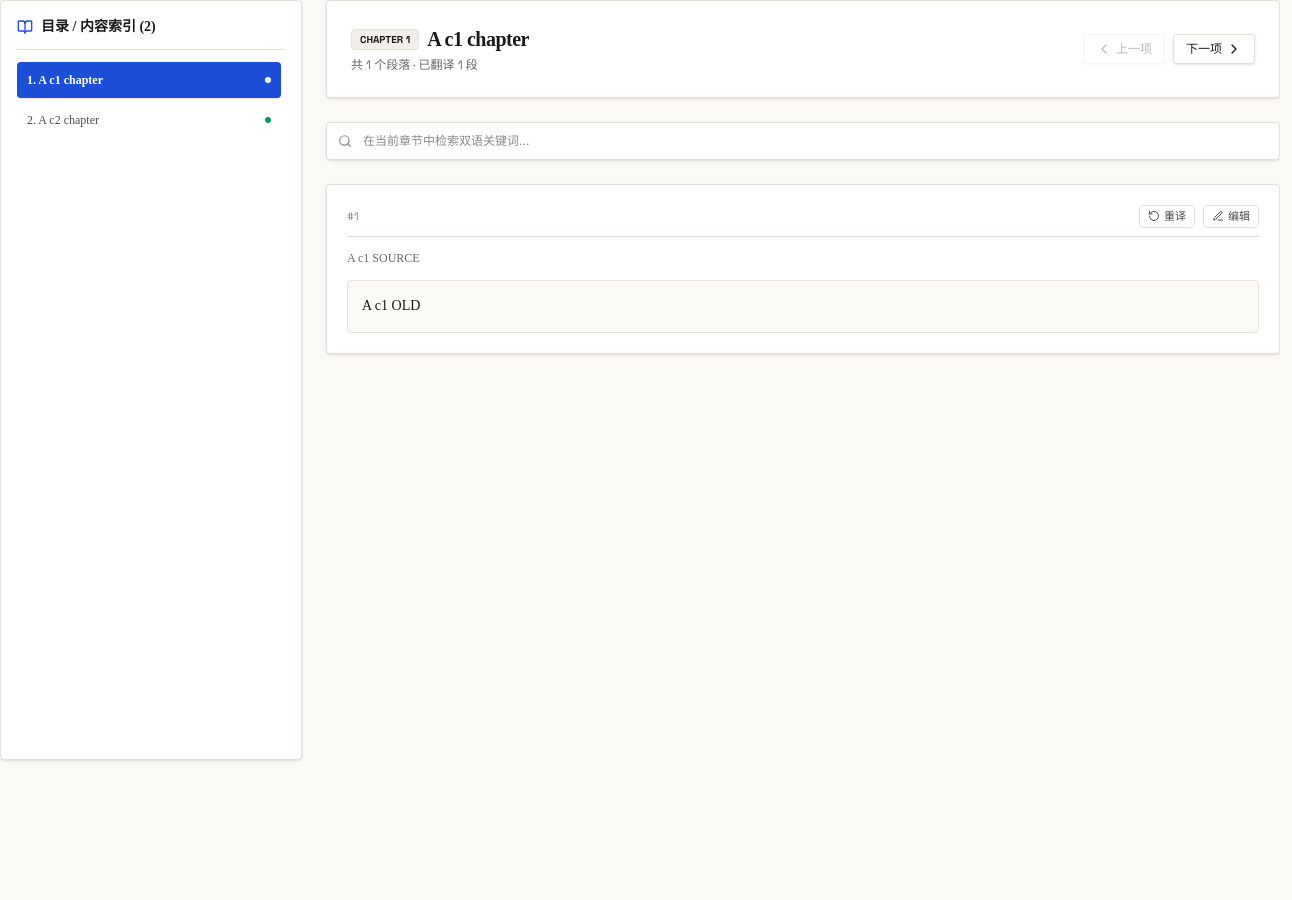
Scenario: late retranslate response › ignores chapter-switch stale success
expect the text "A c1 OLD" is shown: met, box [347,280,1259,333]
Click the button "重译" at (1167,216), box [1139,205,1195,228]
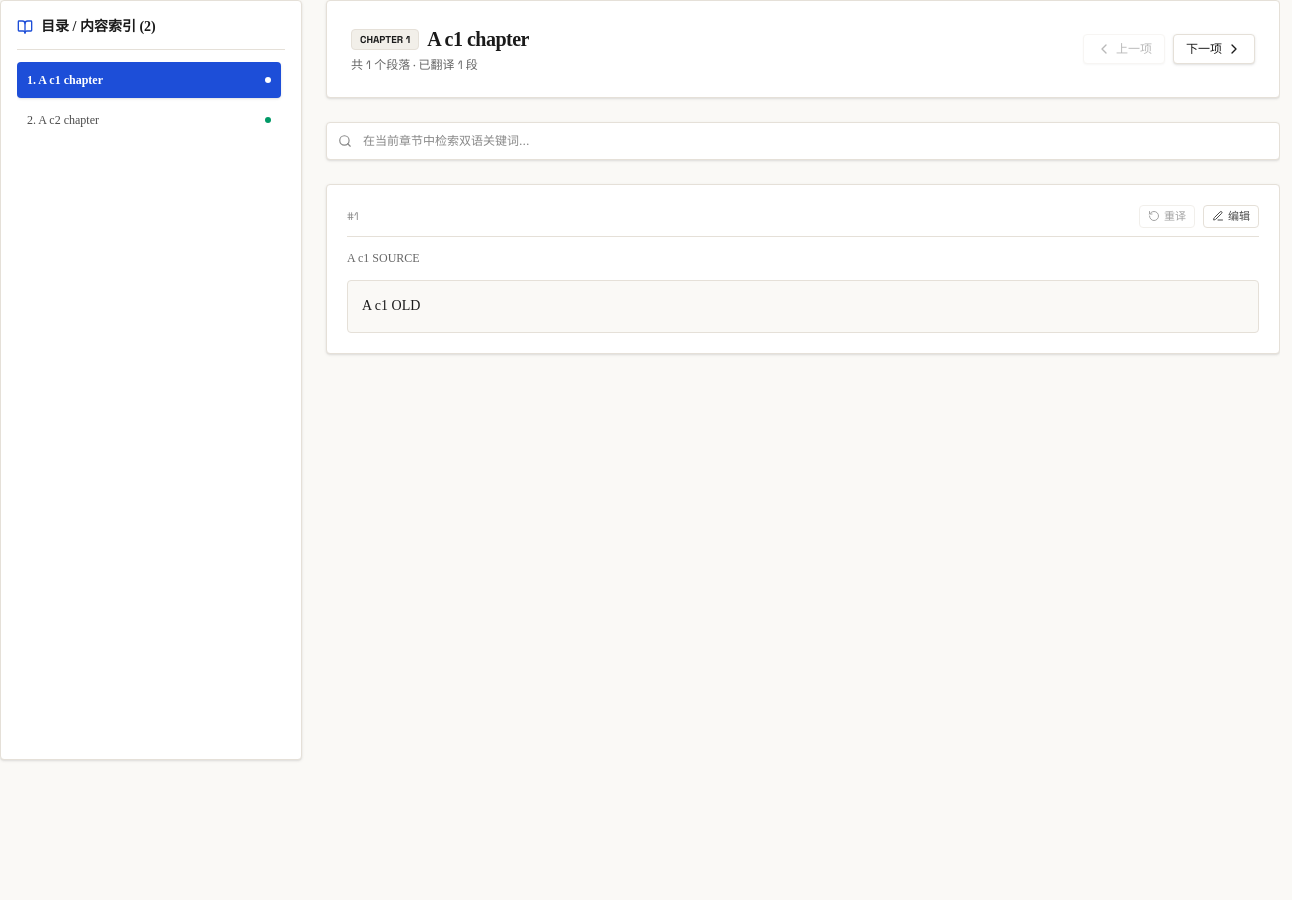
Click the button "2. A c2 chapter" at (69,120), box [17,102,281,138]
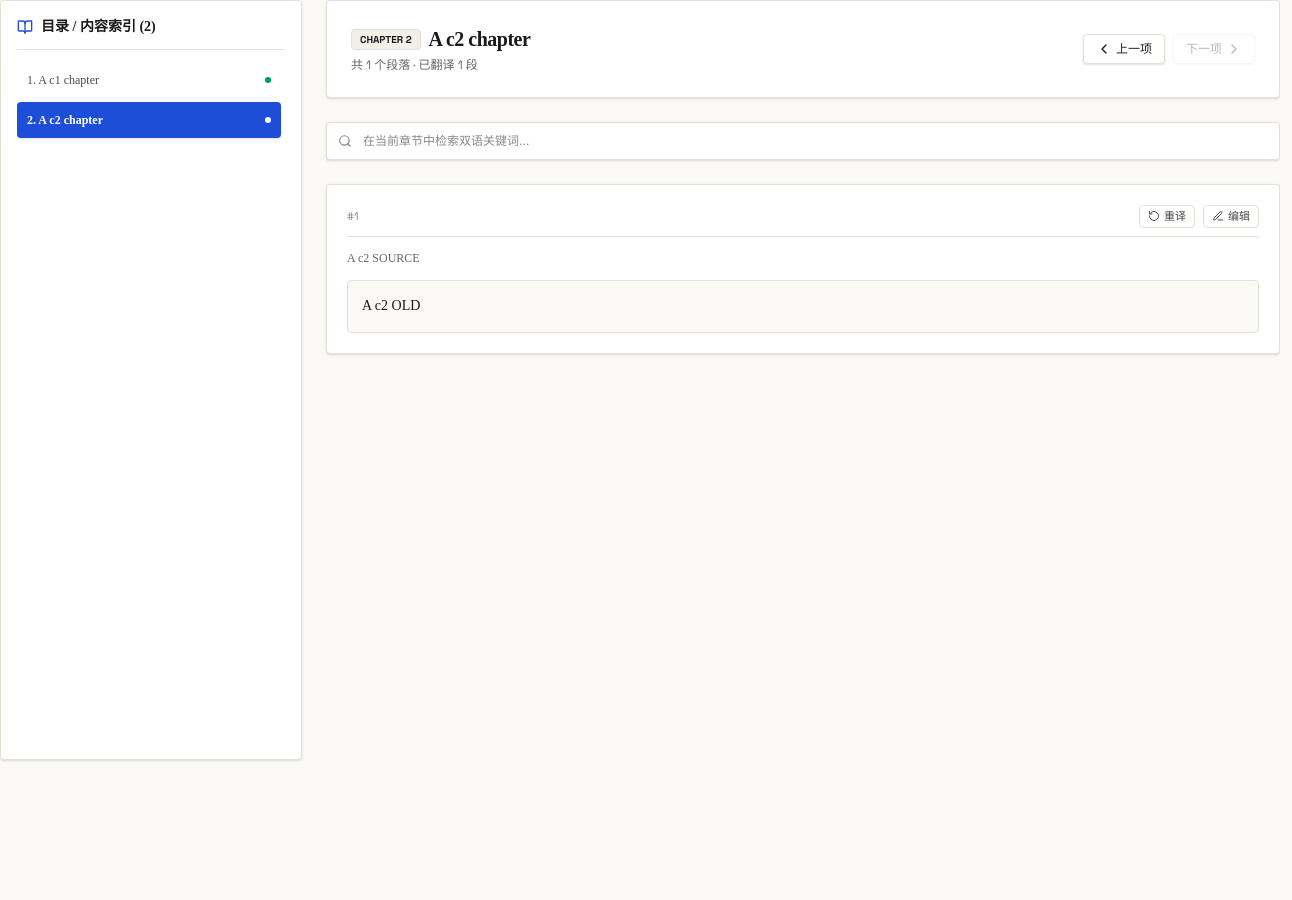
expect the text "A c2 OLD" is shown: met, box [347,280,1259,333]
